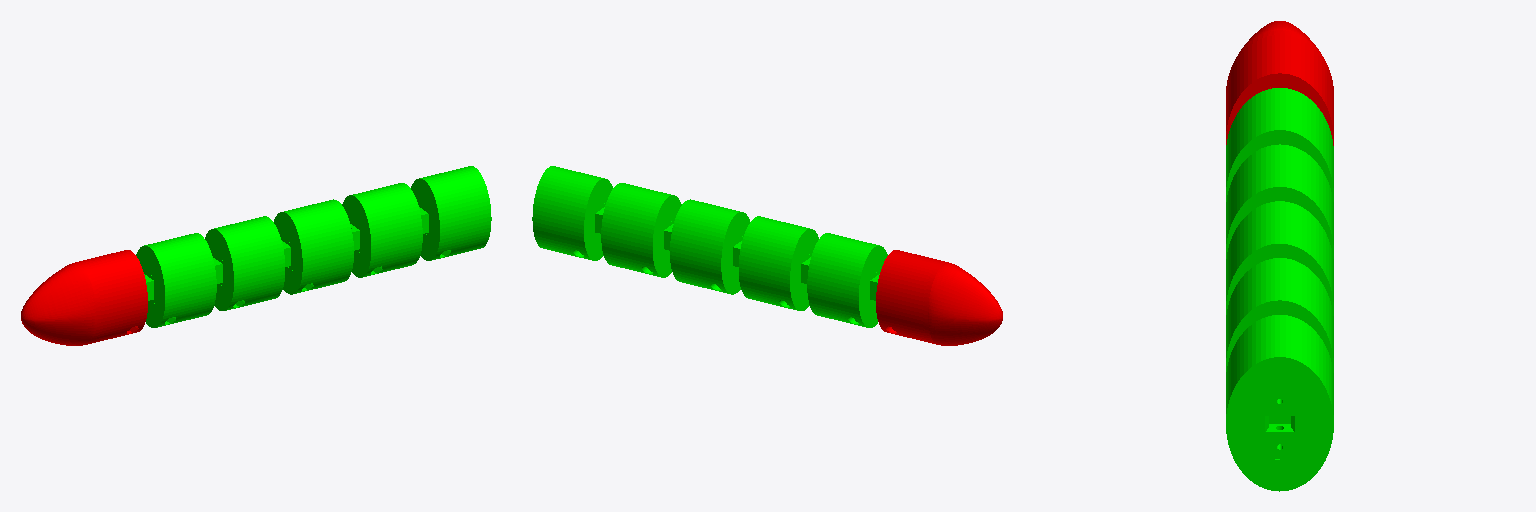
URDF robot description (mubot_1):
<?xml version='1.0' encoding='UTF-8'?>
<robot name="mubot_1">

<link name="segment_head_0">
  <inertial>
    <origin xyz="0.02857 0.0 0.0" rpy="0 0 0" />
    <mass value="1.967E+1" />
    <inertia ixx="6.043E-03" ixy="0.0" ixz="0.0" iyy="6.043E-03" iyz="0.0" izz="6.043E-03" />
  </inertial>
  <visual>
    <origin xyz="0 0 0" rpy="0 0 0" />
    <geometry>
      <mesh filename="package://mubot_sim/meshes/segment_head.STL" scale="1 1 1"/>
    </geometry>
    <material name="">
      <color rgba="1 0 0 1" />
    </material>
  </visual>
  <collision>
    <origin xyz="0 0 0" rpy="0 0 0" />
    <geometry>
      <mesh filename="package://mubot_sim/meshes/segment_head.STL" scale="1 1 1"/>
    </geometry>
  </collision>
</link>

<link name="segment_body_1">
  <inertial>
    <origin xyz="0.01170 0.0 0.0" rpy="0 0 0" />
    <mass value="1.975E+1" />
    <inertia ixx="2.018E-03" ixy="0.0" ixz="0.0" iyy="2.018E-03" iyz="0.0" izz="2.018E-03" />
  </inertial>
  <visual>
    <origin xyz="0 0 0" rpy="0 0 0" />
    <geometry>
      <mesh filename="package://mubot_sim/meshes/segment_body.STL" scale="1 1 1"/>
    </geometry>
    <material name="">
      <color rgba="0 1 0 1" />
    </material>
  </visual>
  <collision>
    <origin xyz="0 0 0" rpy="0 0 0" />
    <geometry>
      <mesh filename="package://mubot_sim/meshes/segment_body.STL" scale="1 1 1"/>
    </geometry>
  </collision>
</link>

<link name="segment_body_2">
  <inertial>
    <origin xyz="0.01170 0.0 0.0" rpy="0 0 0" />
    <mass value="1.975E+01" />
      <inertia ixx="2.018E-03" ixy="0.0" ixz="0.0" iyy="2.018E-03" iyz="0.0" izz="2.018E-03" />
    </inertial>
  <visual>
    <origin xyz="0 0 0" rpy="0 0 0" />
    <geometry>
      <mesh filename="package://mubot_sim/meshes/segment_body.STL" scale="1 1 1"/>
    </geometry>
    <material name="">
      <color rgba="0 1 0 1" />
    </material>
  </visual>
  <collision>
    <origin xyz="0 0 0" rpy="0 0 0" />
    <geometry>
      <mesh filename="package://mubot_sim/meshes/segment_body.STL" scale="1 1 1"/>
    </geometry>
  </collision>
</link>

<link name="segment_body_3">
  <inertial>
    <origin xyz="0.01170 0.0 0.0" rpy="0 0 0" />
    <mass value="1.975E+01" />
      <inertia ixx="2.018E-03" ixy="0.0" ixz="0.0" iyy="2.018E-03" iyz="0.0" izz="2.018E-03" />
    </inertial>
  <visual>
    <origin xyz="0 0 0" rpy="0 0 0" />
    <geometry>
      <mesh filename="package://mubot_sim/meshes/segment_body.STL" scale="1 1 1"/>
    </geometry>
    <material name="">
      <color rgba="0 1 0 1" />
    </material>
  </visual>
  <collision>
    <origin xyz="0 0 0" rpy="0 0 0" />
    <geometry>
      <mesh filename="package://mubot_sim/meshes/segment_body.STL" scale="1 1 1"/>
    </geometry>
  </collision>
</link>

<link name="segment_body_4">
  <inertial>
    <origin xyz="0.01170 0.0 0.0" rpy="0 0 0" />
    <mass value="1.975E+01" />
      <inertia ixx="2.018E-03" ixy="0.0" ixz="0.0" iyy="2.018E-03" iyz="0.0" izz="2.018E-03" />
    </inertial>
  <visual>
    <origin xyz="0 0 0" rpy="0 0 0" />
    <geometry>
      <mesh filename="package://mubot_sim/meshes/segment_body.STL" scale="1 1 1"/>
    </geometry>
    <material name="">
      <color rgba="0 1 0 1" />
    </material>
  </visual>
  <collision>
    <origin xyz="0 0 0" rpy="0 0 0" />
    <geometry>
      <mesh filename="package://mubot_sim/meshes/segment_body.STL" scale="1 1 1"/>
    </geometry>
  </collision>
</link>

<link name="segment_body_5">
  <inertial>
    <origin xyz="0.01170 0.0 0.0" rpy="0 0 0" />
    <mass value="1.975E+01" />
      <inertia ixx="2.018E-03" ixy="0.0" ixz="0.0" iyy="2.018E-03" iyz="0.0" izz="2.018E-03" />
    </inertial>
  <visual>
    <origin xyz="0 0 0" rpy="0 0 0" />
    <geometry>
      <mesh filename="package://mubot_sim/meshes/segment_body.STL" scale="1 1 1"/>
    </geometry>
    <material name="">
      <color rgba="0 1 0 1" />
    </material>
  </visual>
  <collision>
    <origin xyz="0 0 0" rpy="0 0 0" />
    <geometry>
      <mesh filename="package://mubot_sim/meshes/segment_body.STL" scale="1 1 1"/>
    </geometry>
  </collision>
</link>

<link name="segment_pedunc">
  <inertial>
    <origin xyz="0.007515 0.0 0.0" rpy="0 0 0" />
    <mass value="1.418E+01" />
    <inertia ixx="1.109E-03" ixy="0.0" ixz="0.0" iyy="1.109E-03" iyz="0.0" izz="1.109E-03" />
  </inertial>
  <visual>
    <origin xyz="0 0 0" rpy="0 0 0" />
    <geometry>
      <mesh filename="package://mubot_sim/meshes/segment_pedu.STL" scale="1 1 1"/>
    </geometry>
    <material name="">
      <color rgba="0 0 1 1" />
    </material>
  </visual>
  <collision>
    <origin xyz="0 0 0" rpy="0 0 0" />
    <geometry>
      <mesh filename="package://mubot_sim/meshes/segment_pedu.STL" scale="1 1 1"/>
    </geometry>
  </collision>
</link>

<link name="segment_tailtp">
  <inertial>
    <origin xyz="0.01400 0.0 0.0" rpy="0 0 0" />
    <mass value="1.003E+01" />
    <inertia ixx="1.730E-03" ixy="0.0" ixz="0.0" iyy="1.730E-03" iyz="0.0" izz="1.730E-03" />
  </inertial>
  <visual>
    <origin xyz="0 0 0" rpy="0 0 0" />
    <geometry>
      <mesh filename="package://mubot_sim/meshes/segment_ttip.STL" scale="1 1 1"/>
    </geometry>
    <material name="">
      <color rgba="0 0 1 1" />
    </material>
  </visual>
  <collision>
    <origin xyz="0 0 0" rpy="0 0 0" />
    <geometry>
      <mesh filename="package://mubot_sim/meshes/segment_ttip.STL" scale="1 1 1"/>
    </geometry>
  </collision>
</link>


<!--Defination of joints: joint0-joint5-->
<joint name="joint_a0" type="revolute">
  <origin xyz="0.041 0 0" rpy="0 0 0" />
  <parent link="segment_head_0" />
  <child link="segment_body_1" />
  <axis xyz="0 0 1" />
  <limit lower="-1.57" upper="1.57" effort="10" velocity="10" />
  <dynamics damping="0.05" friction="0.0"/>
</joint>

<joint name="joint_a1" type="revolute">
  <origin xyz="0.02675 0 0" rpy="0 0 0" />
  <parent link="segment_body_1" />
  <child link="segment_body_2" />
  <axis xyz="0 0 1" />
  <limit lower="-1.57" upper="1.57" effort="10" velocity="10" />
  <dynamics damping="0.05" friction="0.0"/>
</joint>

<joint name="joint_a2" type="revolute">
  <origin xyz="0.02675 0 0" rpy="0 0 0" />
  <parent link="segment_body_2" />
  <child link="segment_body_3" />
  <axis xyz="0 0 1" />
  <limit lower="-1.57" upper="1.57" effort="10" velocity="10" />
  <dynamics damping="0.05" friction="0.0"/>
</joint>

<joint name="joint_a3" type="revolute">
  <origin xyz="0.02675 0 0" rpy="0 0 0" />
  <parent link="segment_body_3" />
  <child link="segment_body_4" />
  <axis xyz="0 0 1" />
  <limit lower="-1.57" upper="1.57" effort="10" velocity="10" />
  <dynamics damping="0.05" friction="0.0"/>
</joint>

<joint name="joint_a4" type="revolute">
  <origin xyz="0.02675 0 0" rpy="0 0 0" />
  <parent link="segment_body_4" />
  <child link="segment_body_5" />
  <axis xyz="0 0 1" />
  <limit lower="-1.57" upper="1.57" effort="10" velocity="10" />
  <dynamics damping="0.05" friction="0.0"/>
</joint>

<joint name="joint_a5" type="revolute">
  <origin xyz="0.02675 0 0" rpy="0 0 0" />
  <parent link="segment_body_5" />
  <child link="segment_pedunc" />
  <axis xyz="0 0 1" />
  <limit lower="-1.57" upper="1.57" effort="10" velocity="10" />
  <dynamics damping="0.05" friction="0.0"/>
</joint>

<joint name="joint_p0" type="revolute">
  <origin xyz="0.02175 0 0" rpy="0 0 0" />
  <parent link="segment_pedunc" />
  <child link="segment_tailtp" />
  <axis xyz="0 0 1" />
  <limit lower="-1.57" upper="1.57" effort="10" velocity="10" />
  <dynamics damping="0.05" friction="0.0"/>
</joint>


<gazebo reference="segment_body_1">
    <material>Gazebo/Red</material>
</gazebo>
<gazebo reference="segment_body_2">
    <material>Gazebo/Yellow</material>
</gazebo>
<gazebo reference="segment_body_3">
    <material>Gazebo/Yellow</material>
</gazebo>
<gazebo reference="segment_body_4">
    <material>Gazebo/Yellow</material>
</gazebo>
<gazebo reference="segment_body_5">
    <material>Gazebo/Yellow</material>
</gazebo>
<gazebo reference="segment_pedunc">
    <material>Gazebo/Orange</material>
</gazebo>
<gazebo reference="segment_tailtp">
    <material>Gazebo/Blue</material>
</gazebo>

<gazebo reference="joint_a0">
  <springStiffness>5.328</springStiffness>
</gazebo>
<gazebo reference="joint_a1">
  <springStiffness>5.328</springStiffness>
</gazebo>
<gazebo reference="joint_a2">
  <springStiffness>5.328</springStiffness>
</gazebo>
<gazebo reference="joint_a3">
  <springStiffness>5.328</springStiffness>
</gazebo>
<gazebo reference="joint_a4">
  <springStiffness>5.328</springStiffness>
</gazebo>
<gazebo reference="joint_a5">
  <springStiffness>5.328</springStiffness>
</gazebo>
<gazebo reference="joint_p0">
  <springStiffness>16.86</springStiffness>
</gazebo>

<!--Defination of plugins-->
<gazebo>
  <plugin filename="mubot_actuator" name="mubot::ActuatorPlugin">
    <database_dir>/home/donghaoli/new_mubot/src/mubot_sim/Database</database_dir>
    <explicit_spring>false</explicit_spring>
    <external_control>true</external_control>
  </plugin>
  <plugin filename="mubot_hydro" name="mubot::HydroPlugin">
    <database_dir>/home/donghaoli/new_mubot/src/mubot_sim/Database</database_dir>
    <csv_record>false</csv_record>
  </plugin>
</gazebo>


</robot>

--- Render facts (derived) ---
3 views of the same robot in one strip: view 1: azimuth 30°, elevation 25°; view 2: azimuth 150°, elevation 25°; view 3: azimuth 270°, elevation 25° (orthographic).
Model mubot_1 with 8 links and 7 joints (7 revolute), rooted at segment_head_0, posed every joint at zero.
Visible links, largest first — view 1: segment_head_0, segment_body_1, segment_body_3, segment_body_4, segment_body_5, segment_body_2; view 2: segment_head_0, segment_body_1, segment_body_3, segment_body_4, segment_body_5, segment_body_2; view 3: segment_body_5, segment_head_0, segment_body_1, segment_body_4, segment_body_3, segment_body_2.
Boxes of the visible links, box(x1,y1,x2,y2) form: segment_head_0: box(21, 250, 147, 345); segment_body_1: box(136, 233, 216, 327); segment_body_3: box(274, 199, 353, 294); segment_body_4: box(342, 183, 422, 277); segment_body_5: box(411, 166, 491, 260); segment_body_2: box(205, 216, 284, 310); segment_head_0: box(876, 250, 1002, 345); segment_body_1: box(807, 233, 887, 327); segment_body_3: box(670, 199, 749, 294); segment_body_4: box(601, 183, 681, 277); segment_body_5: box(532, 166, 612, 260); segment_body_2: box(739, 216, 818, 310); segment_body_5: box(1226, 315, 1333, 491); segment_head_0: box(1226, 21, 1333, 145); segment_body_1: box(1226, 88, 1333, 201); segment_body_4: box(1226, 258, 1333, 372); segment_body_3: box(1226, 201, 1333, 315); segment_body_2: box(1226, 144, 1333, 258).
Size in the robot's own frame: 0.1767 by 0.0216 by 0.0296 metres.
Meshes: 4 distinct files referenced, 6 mesh visuals loaded (2 binary STL); not drawn: 2 (reference not matched to a file when rendering).
